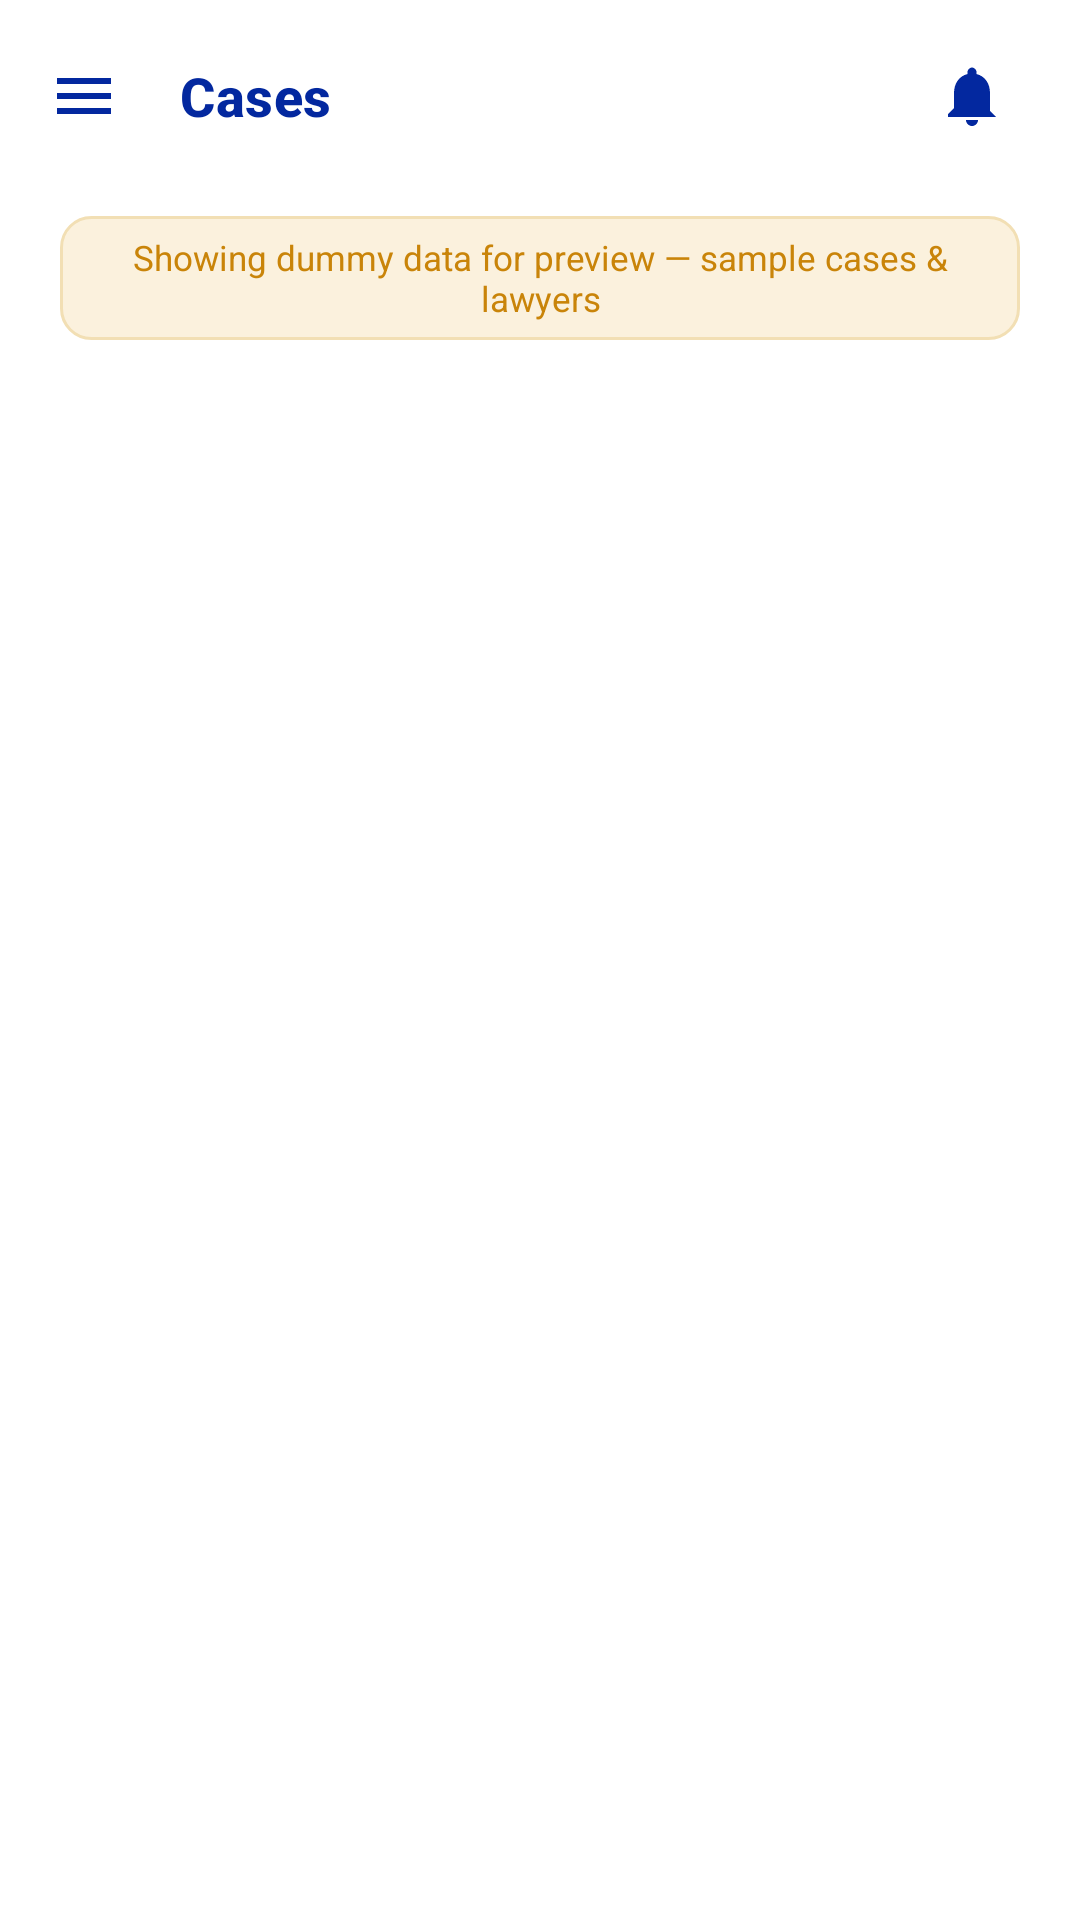

Icons on this 1080w x 1920h Android screen, each with its box as (x1, y1, x2, y2):
Notifications: (948, 67, 996, 126)
